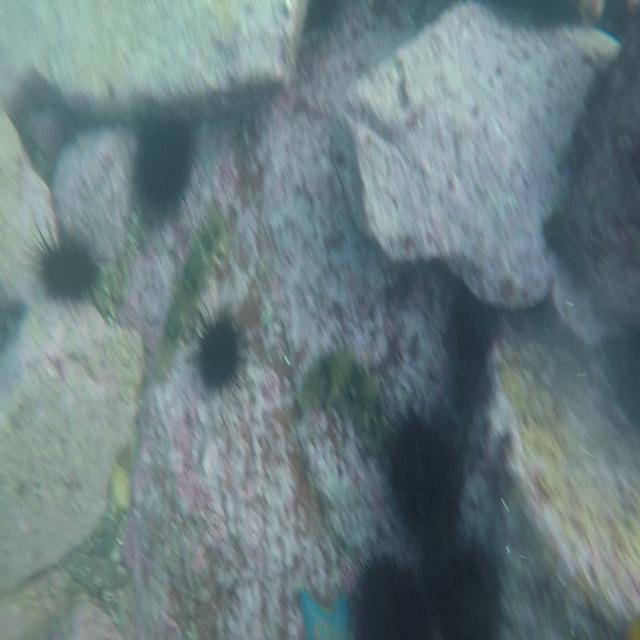echinus: (386, 409, 454, 526), (131, 105, 196, 223), (426, 543, 504, 640), (349, 554, 421, 640), (31, 219, 99, 308), (189, 305, 243, 393), (299, 0, 343, 36)
holothurian: (155, 214, 227, 380), (289, 344, 393, 458), (102, 227, 141, 321)
